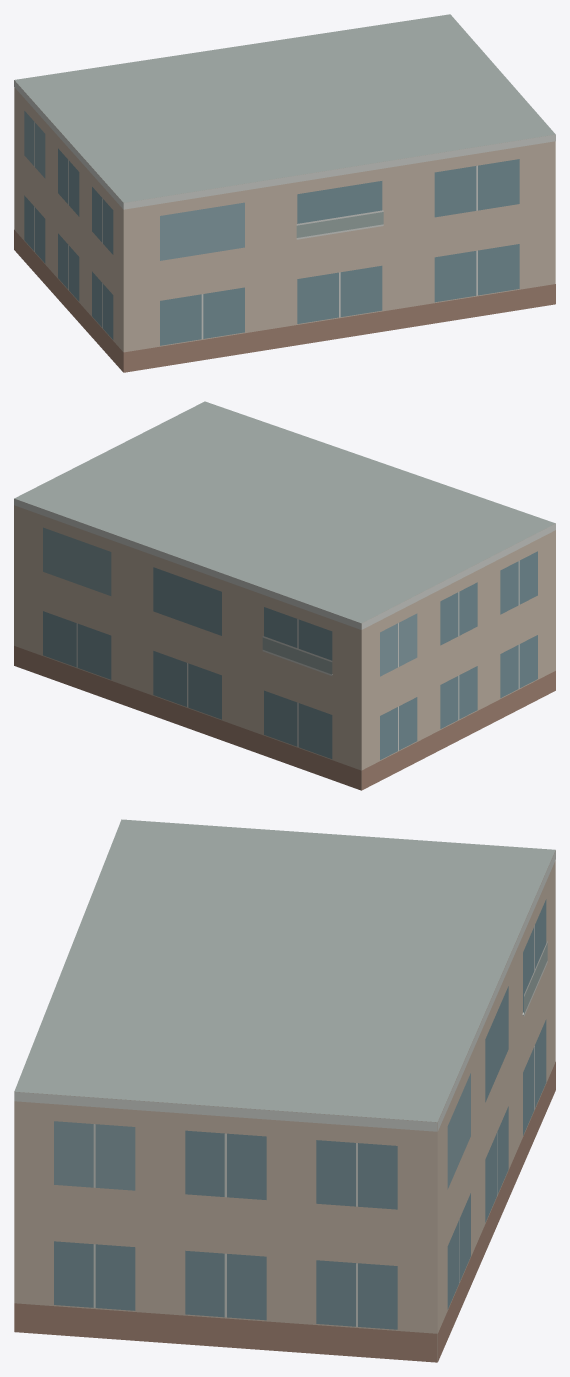
The model's file is survey-upis-32831691.glb.
3 renders of one model, top to bottom at view 1: azimuth 30°, elevation 25°; view 2: azimuth 150°, elevation 25°; view 3: azimuth 270°, elevation 25°, orthographic. The views are drawn at different scales.
Parts seen in each view (by area): view 1: survey-upis-32831691.tmp; view 2: survey-upis-32831691.tmp; view 3: survey-upis-32831691.tmp.
Part boxes in pixels (x1,y1,x2,y2): survey-upis-32831691.tmp: [14, 14, 555, 372]; survey-upis-32831691.tmp: [14, 401, 555, 790]; survey-upis-32831691.tmp: [14, 819, 555, 1362].
Size of the model in its own units: 16.5 by 6.1 by 12.47.
